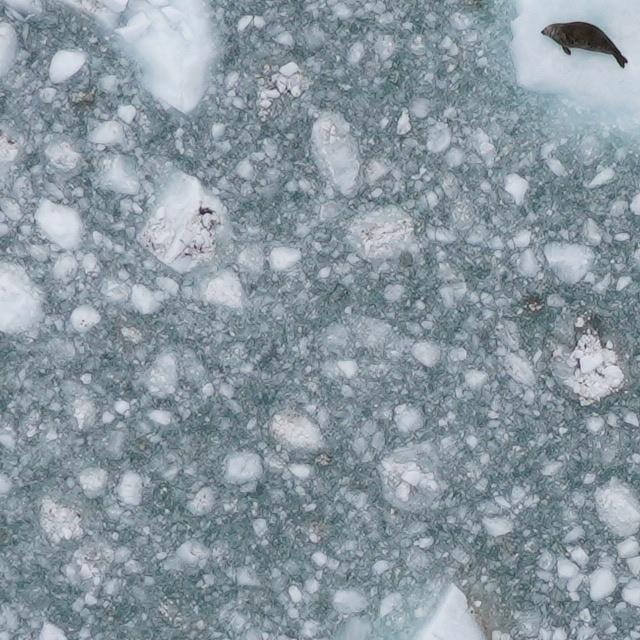seal: (537, 17, 633, 71)
